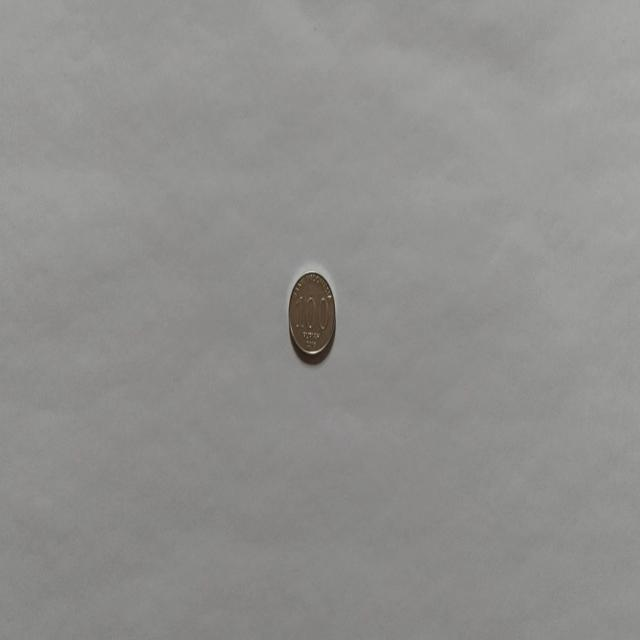seratus rupiah: (287, 269, 336, 359)
